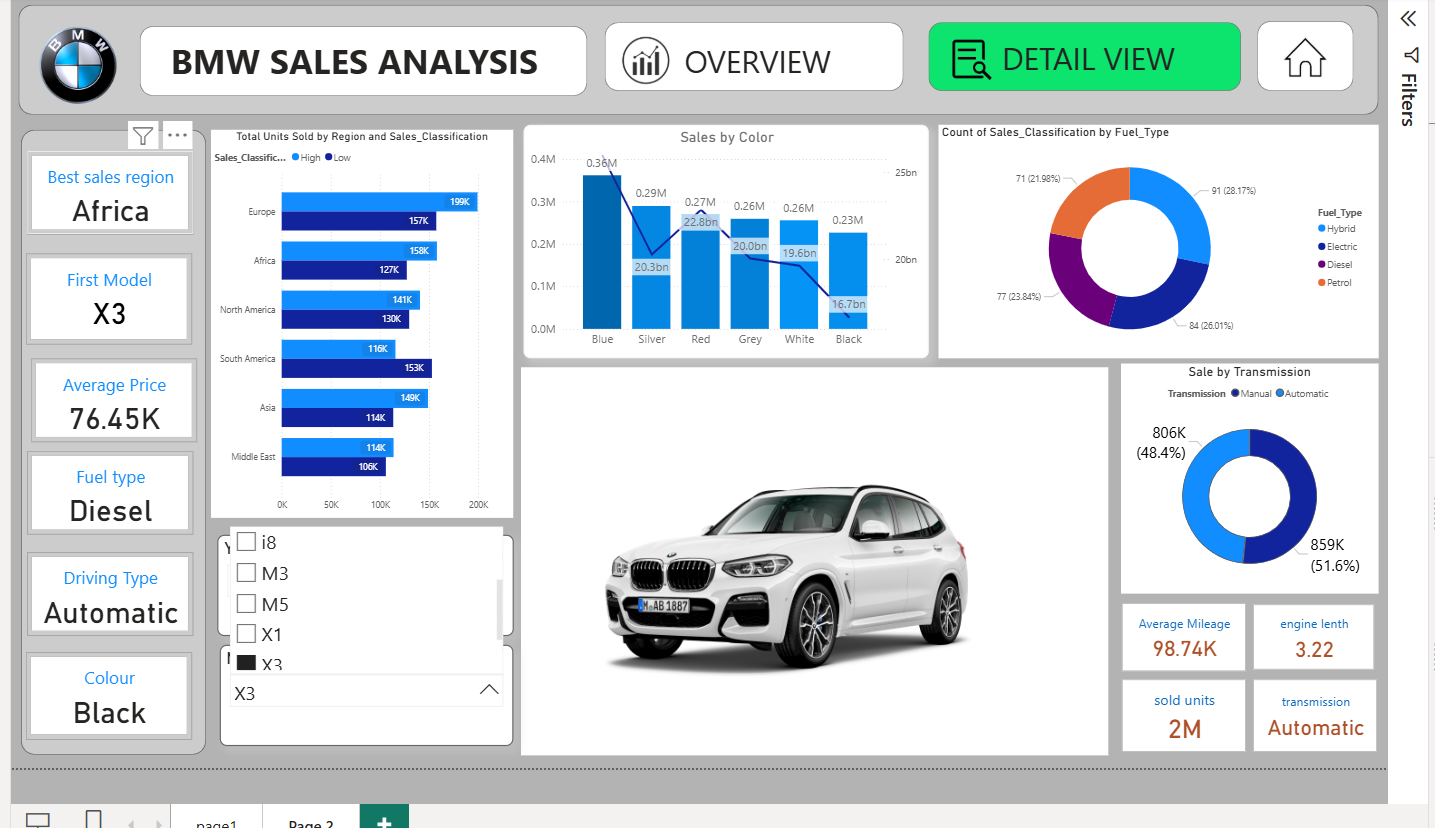

The page's visual inventory and layout, read from the dashboard file:
{"tool":"powerbi","page":{"name":"Page 2","canvas":[1923,1080],"ordinal":1},"visuals":[{"type":"shape","box":[14,186.9,258.5,873.5],"z":0},{"type":"shape","box":[10.5,12.2,1900.6,153.7],"z":1000},{"type":"cardVisual","fields":{"Data":["Min(BMW_Car_Sales_Classification.Region)"]},"box":[22.7,216.6,232.3,117],"z":2000},{"type":"image","box":[10.5,28,166,138],"z":3000},{"type":"shape","box":[179.9,41.9,625.4,97.8],"z":4000},{"type":"textbox","box":[218.4,52.4,546.8,75.1],"z":5000},{"type":"shape","box":[829.8,36.7,417.5,96.1],"z":6000},{"type":"shape","box":[1282.2,36.7,436.7,96.1],"z":7000},{"type":"image","box":[814.1,19.2,146.7,141.5],"z":8000},{"type":"textbox","box":[936.3,55.9,228.8,71.6],"z":9000},{"type":"image","box":[1263,19.2,153.7,138],"z":10000},{"type":"textbox","box":[1380.1,52.4,267.3,76.9],"z":11000},{"type":"shape","box":[1741.7,34.9,134.5,97.8],"z":12000},{"type":"image","box":[1741.7,38.4,134.5,94.3],"z":13000},{"type":"cardVisual","fields":{"Data":["BMW_Car_Sales_Classification.Average Price"]},"box":[28,506.6,232.3,117],"z":14000},{"type":"cardVisual","fields":{"Data":["Min(BMW_Car_Sales_Classification.Model)"]},"box":[21,359.9,232.3,127.5],"z":15000},{"type":"cardVisual","fields":{"Data":["Min(BMW_Car_Sales_Classification.Transmission)"]},"box":[22.7,777.4,232.3,117],"z":16000},{"type":"cardVisual","fields":{"Data":["Min(BMW_Car_Sales_Classification.Color)"]},"box":[21,917.1,232.3,122.3],"z":17000},{"type":"cardVisual","fields":{"Data":["Min(BMW_Car_Sales_Classification.Fuel_Type)"]},"box":[22.7,635.9,232.3,117],"z":18000},{"type":"clusteredBarChart","fields":{"Category":["BMW_Car_Sales_Classification.Region"],"Y":["BMW_Car_Sales_Classification.Total Units Sold"],"Series":["BMW_Car_Sales_Classification.Sales_Classification"]},"box":[280.4,187.6,422.6,542.2],"z":19000},{"type":"lineStackedColumnComboChart","title":"Sales by Color","fields":{"Category":["BMW_Car_Sales_Classification.Color"],"Y":["Sum(BMW_Car_Sales_Classification.Sales_Volume)"],"Y2":["BMW_Car_Sales_Classification.Total Revenue"]},"box":[716.2,179.9,566,326.7],"z":20000},{"type":"donutChart","fields":{"Category":["BMW_Car_Sales_Classification.Fuel_Type"],"Y":["CountNonNull(BMW_Car_Sales_Classification.Sales_Classification)"]},"box":[1296.2,179.9,614.9,326.7],"z":21000},{"type":"slicer","title":"Year","fields":{"Values":["BMW_Car_Sales_Classification.Year"]},"box":[288.2,752.9,414,141.5],"z":22000},{"type":"imageDB603108E3FF4EBFB8047F5653368E8C","fields":{"imageUrl":["Sheet1.Column2"],"imageTitle":["BMW_Car_Sales_Classification.Model"]},"box":[713.3,519.5,820.5,542.2],"z":23000},{"type":"slicer","title":"Model","fields":{"Values":["BMW_Car_Sales_Classification.Model"]},"box":[291.7,906.6,410.5,141.5],"z":24000},{"type":"donutChart","title":"Sale by Transmission","fields":{"Category":["BMW_Car_Sales_Classification.Transmission"],"Y":["Sum(BMW_Car_Sales_Classification.Sales_Volume)"]},"box":[1551.3,513.6,359.9,321.4],"z":25000},{"type":"cardVisual","fields":{"Data":["BMW_Car_Sales_Classification.Average Mileage"]},"box":[1548.2,843.2,183.5,105.1],"z":26000},{"type":"cardVisual","fields":{"Data":["Sum(BMW_Car_Sales_Classification.Sales_Volume)"]},"box":[1548.2,950.4,183.5,111.3],"z":27000},{"type":"cardVisual","fields":{"Data":["Avg(BMW_Car_Sales_Classification.Engine_Size_L)"]},"box":[1731.7,845.2,179.4,101],"z":28000},{"type":"cardVisual","fields":{"Data":["Min(BMW_Car_Sales_Classification.Transmission)"]},"box":[1731.7,950.4,183.5,111.3],"z":29000}]}

Visuals, with their boxes on the page's 1923x1080 design canvas (x1, y1, x2, y2). These are canvas units, not pixel positions in the 1435x828 screenshot, which may show the page scaled, cropped or inside an application window:
shape: [14,187,272,1060]
shape: [10,12,1911,166]
cardVisual - Min(BMW_Car_Sales_Classification.Region): [23,217,255,334]
image: [10,28,176,166]
shape: [180,42,805,140]
textbox: [218,52,765,128]
shape: [830,37,1247,133]
shape: [1282,37,1719,133]
image: [814,19,961,161]
textbox: [936,56,1165,128]
image: [1263,19,1417,157]
textbox: [1380,52,1647,129]
shape: [1742,35,1876,133]
image: [1742,38,1876,133]
cardVisual - BMW_Car_Sales_Classification.Average Price: [28,507,260,624]
cardVisual - Min(BMW_Car_Sales_Classification.Model): [21,360,253,487]
cardVisual - Min(BMW_Car_Sales_Classification.Transmission): [23,777,255,894]
cardVisual - Min(BMW_Car_Sales_Classification.Color): [21,917,253,1039]
cardVisual - Min(BMW_Car_Sales_Classification.Fuel_Type): [23,636,255,753]
clusteredBarChart - BMW_Car_Sales_Classification.Region x BMW_Car_Sales_Classification.Total Units Sold: [280,188,703,730]
"Sales by Color" lineStackedColumnComboChart: [716,180,1282,507]
donutChart - BMW_Car_Sales_Classification.Fuel_Type x CountNonNull(BMW_Car_Sales_Classification.Sales_Classification): [1296,180,1911,507]
"Year" slicer: [288,753,702,894]
imageDB603108E3FF4EBFB8047F5653368E8C - Sheet1.Column2 x BMW_Car_Sales_Classification.Model: [713,520,1534,1062]
"Model" slicer: [292,907,702,1048]
"Sale by Transmission" donutChart: [1551,514,1911,835]
cardVisual - BMW_Car_Sales_Classification.Average Mileage: [1548,843,1732,948]
cardVisual - Sum(BMW_Car_Sales_Classification.Sales_Volume): [1548,950,1732,1062]
cardVisual - Avg(BMW_Car_Sales_Classification.Engine_Size_L): [1732,845,1911,946]
cardVisual - Min(BMW_Car_Sales_Classification.Transmission): [1732,950,1915,1062]
